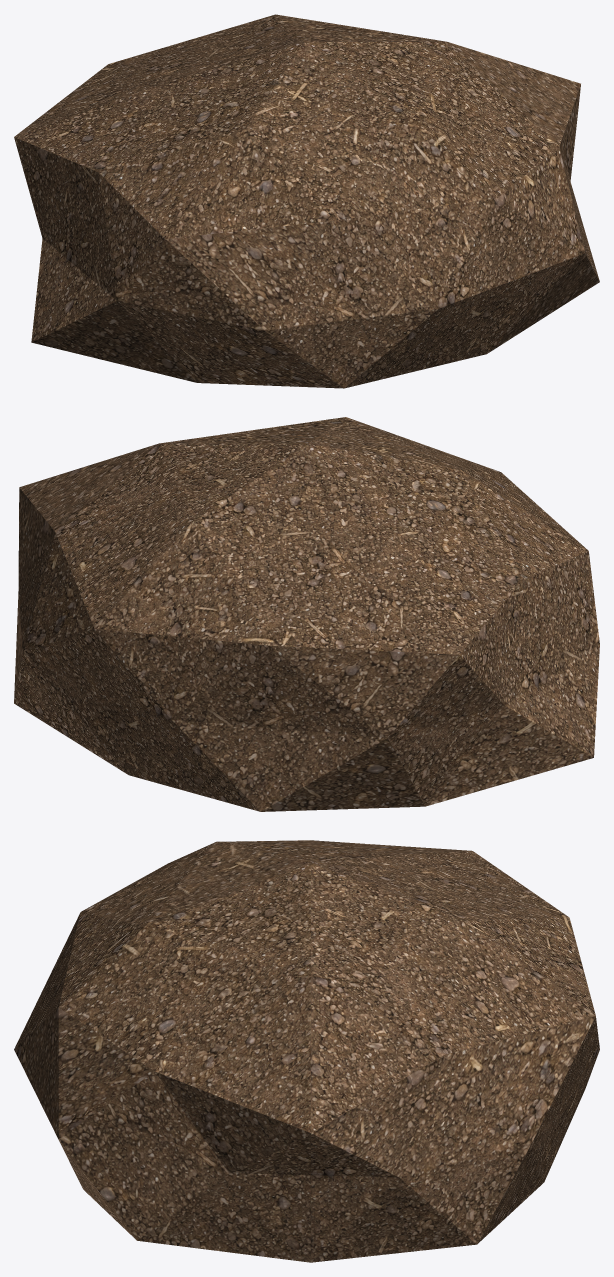
The model's file is Rock_04.glb.
3 views of the same model, one above another, from view 1: azimuth 30°, elevation 25°; view 2: azimuth 150°, elevation 25°; view 3: azimuth 270°, elevation 25° (orthographic). The views are drawn at different scales.
Parts seen in each view (by area): view 1: HW_Rock_04_Export; view 2: HW_Rock_04_Export; view 3: HW_Rock_04_Export.
Boxes of the visible parts, x1,y1,x2,y2 form: HW_Rock_04_Export: [14, 14, 599, 388]; HW_Rock_04_Export: [14, 417, 599, 811]; HW_Rock_04_Export: [14, 840, 599, 1262].
Bounding box in the file's own units: 1.67 × 0.7438 × 1.39.
1 material, 1 textured.
